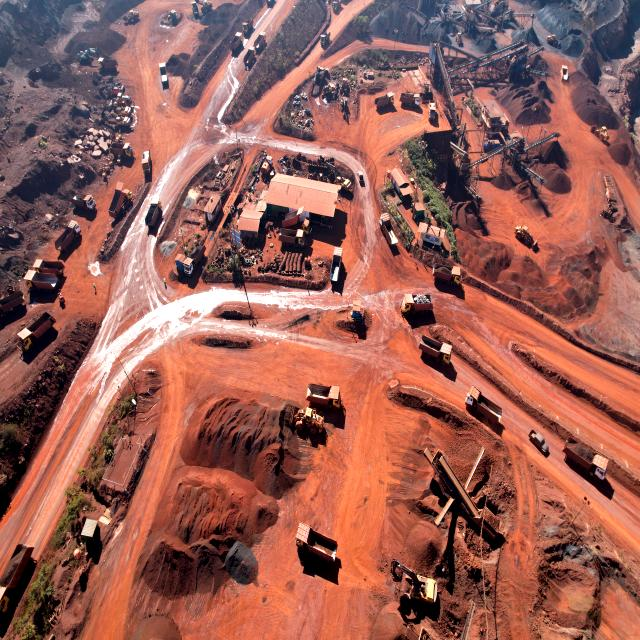Blast rig: (100, 79, 124, 95)
Dumper truck: (0, 538, 30, 615), (564, 433, 608, 480), (296, 522, 336, 562), (466, 383, 502, 426), (20, 310, 56, 350), (421, 334, 452, 365), (308, 381, 340, 411), (283, 205, 311, 236), (56, 219, 82, 250), (109, 178, 129, 215), (402, 291, 431, 316), (185, 241, 205, 276), (0, 289, 24, 316), (434, 262, 461, 285), (380, 214, 399, 246), (26, 270, 56, 290), (145, 197, 162, 229), (279, 228, 306, 248), (32, 259, 64, 275), (73, 192, 96, 212), (111, 144, 133, 160), (375, 92, 396, 106), (401, 92, 420, 107), (159, 62, 171, 85), (536, 52, 548, 74), (242, 16, 254, 34), (254, 32, 266, 50), (141, 149, 149, 174), (231, 32, 242, 50), (245, 46, 256, 64), (190, 1, 199, 17), (320, 32, 330, 46), (429, 102, 436, 122), (332, 0, 342, 13), (561, 66, 569, 82)
Excavator: (391, 556, 436, 608), (325, 163, 351, 189), (100, 109, 132, 130), (311, 65, 326, 96), (78, 47, 100, 63), (101, 106, 133, 116), (322, 84, 336, 98), (341, 97, 349, 118)
car: (530, 428, 550, 454), (358, 171, 364, 186)
person: (94, 281, 96, 292), (164, 278, 166, 286), (522, 126, 523, 132)
